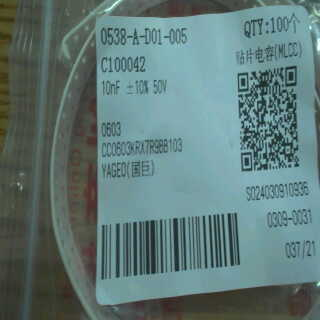10nF: (97, 76, 125, 99)
